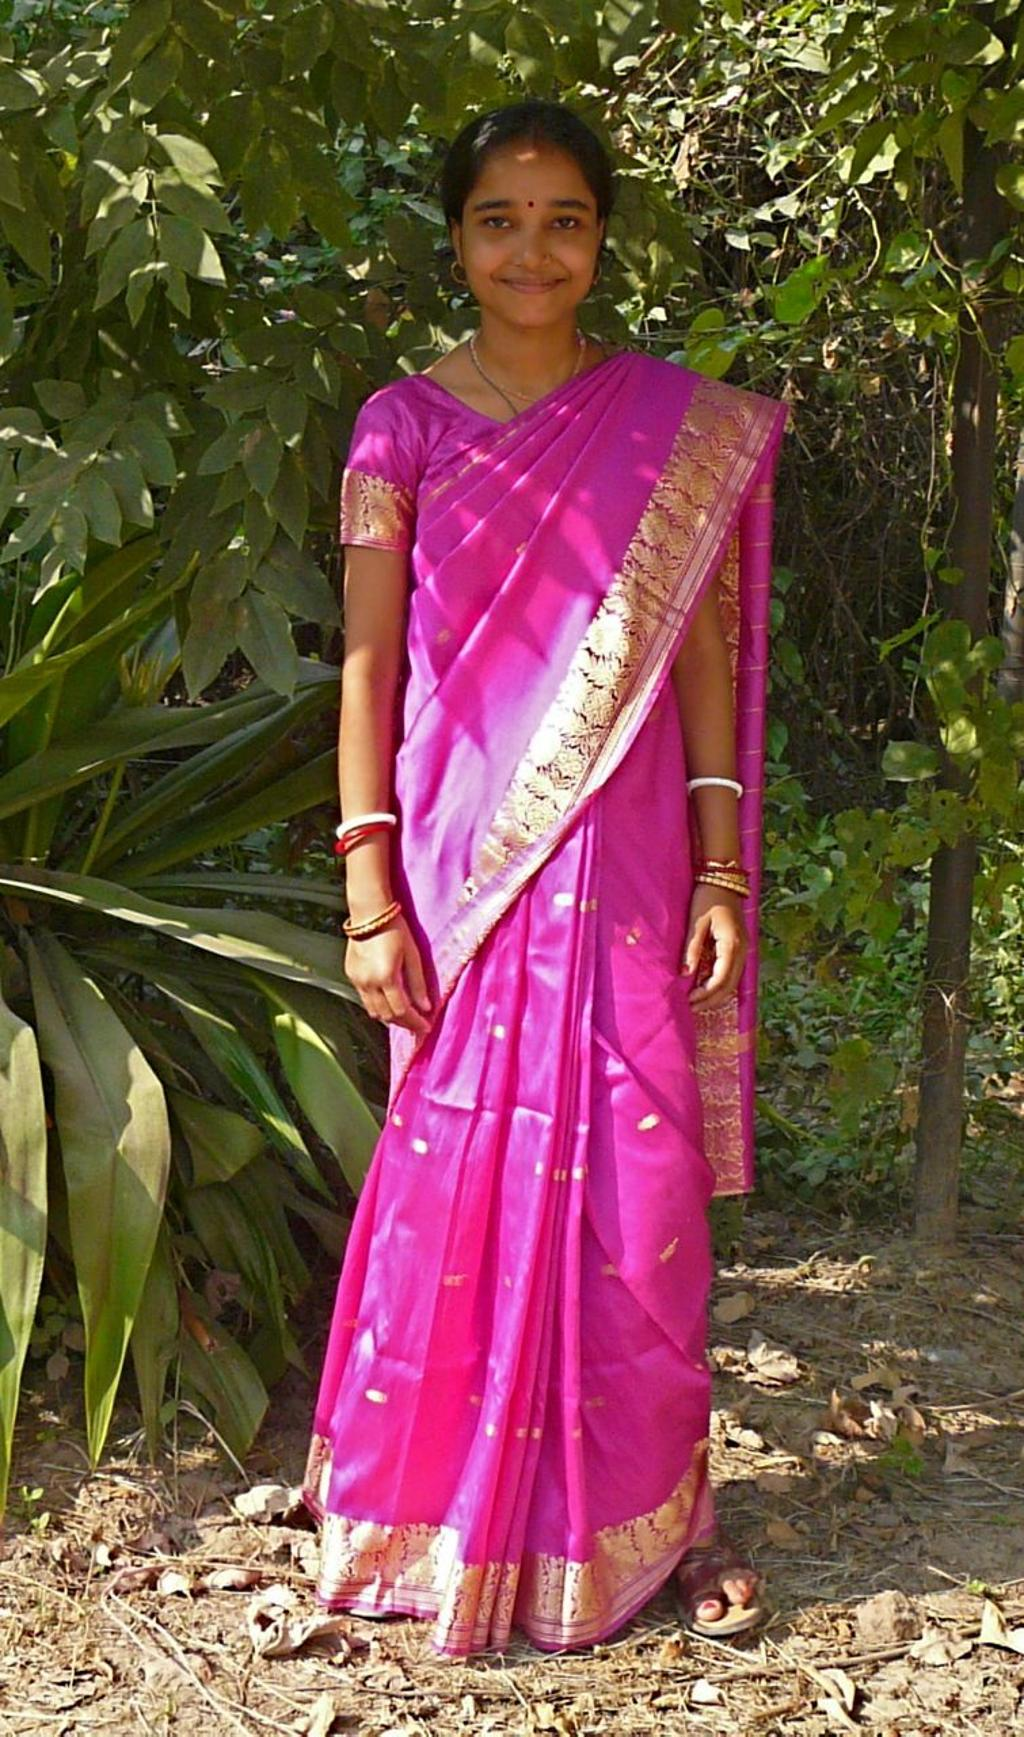face: (462, 140, 601, 326)
